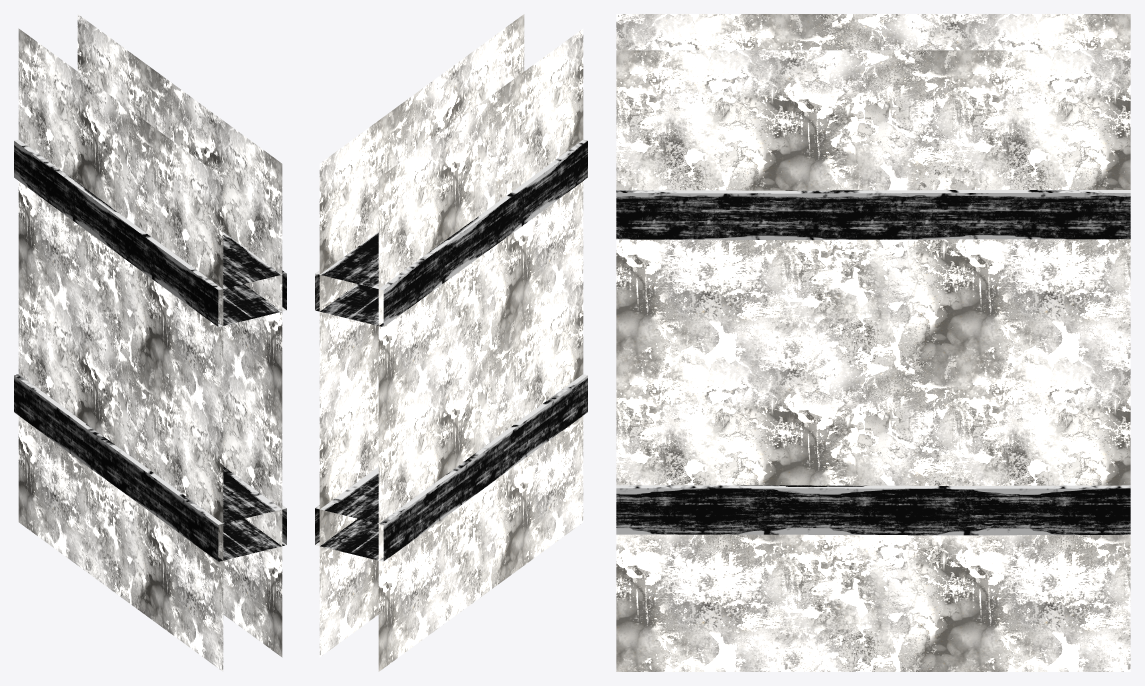
File: SM_wall_A_3x4_01_03.fbx
3 renders of one model, left to right at view 1: azimuth 30°, elevation 25°; view 2: azimuth 150°, elevation 25°; view 3: azimuth 270°, elevation 25°, orthographic. The views are drawn at different scales.
Parts seen in each view (by area): view 1: SM_wall_A_3x4_01_03_LOD0; view 2: SM_wall_A_3x4_01_03_LOD0; view 3: SM_wall_A_3x4_01_03_LOD0.
Boxes of the visible parts, <box> form: SM_wall_A_3x4_01_03_LOD0: <box>14,14,286,671</box>; SM_wall_A_3x4_01_03_LOD0: <box>315,14,587,671</box>; SM_wall_A_3x4_01_03_LOD0: <box>616,14,1130,671</box>.
Bounding box in the file's own units: 58 × 300 × 400.
Materials: 3 (3 with a texture image).
